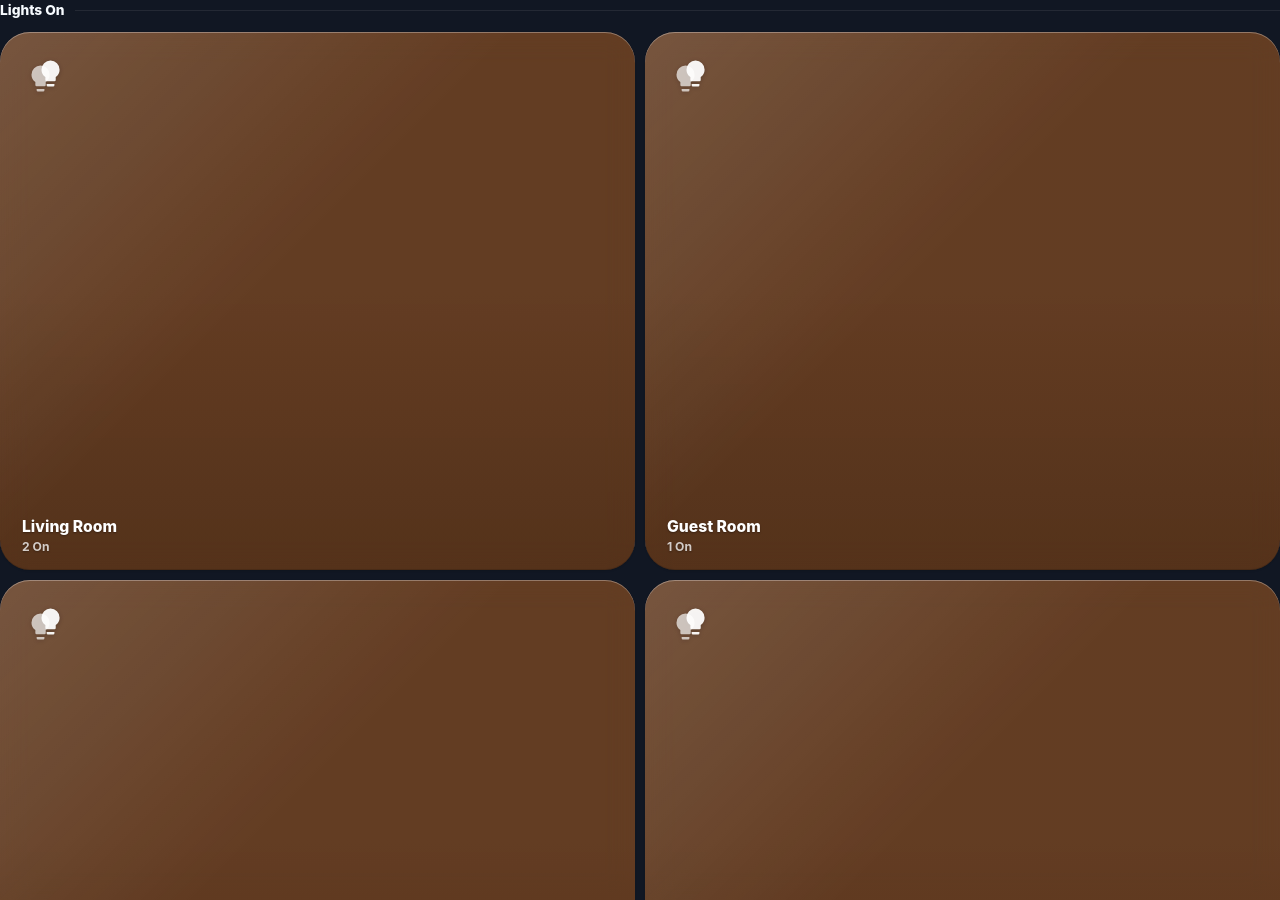
Scenario: AtAGlancePage › keeps standalone light detail controls together when no modal host owns its title
Click the button with aria-label "Open Guest Room Lights" at (962, 301), box x1=645 y1=32 x2=1279 y2=570
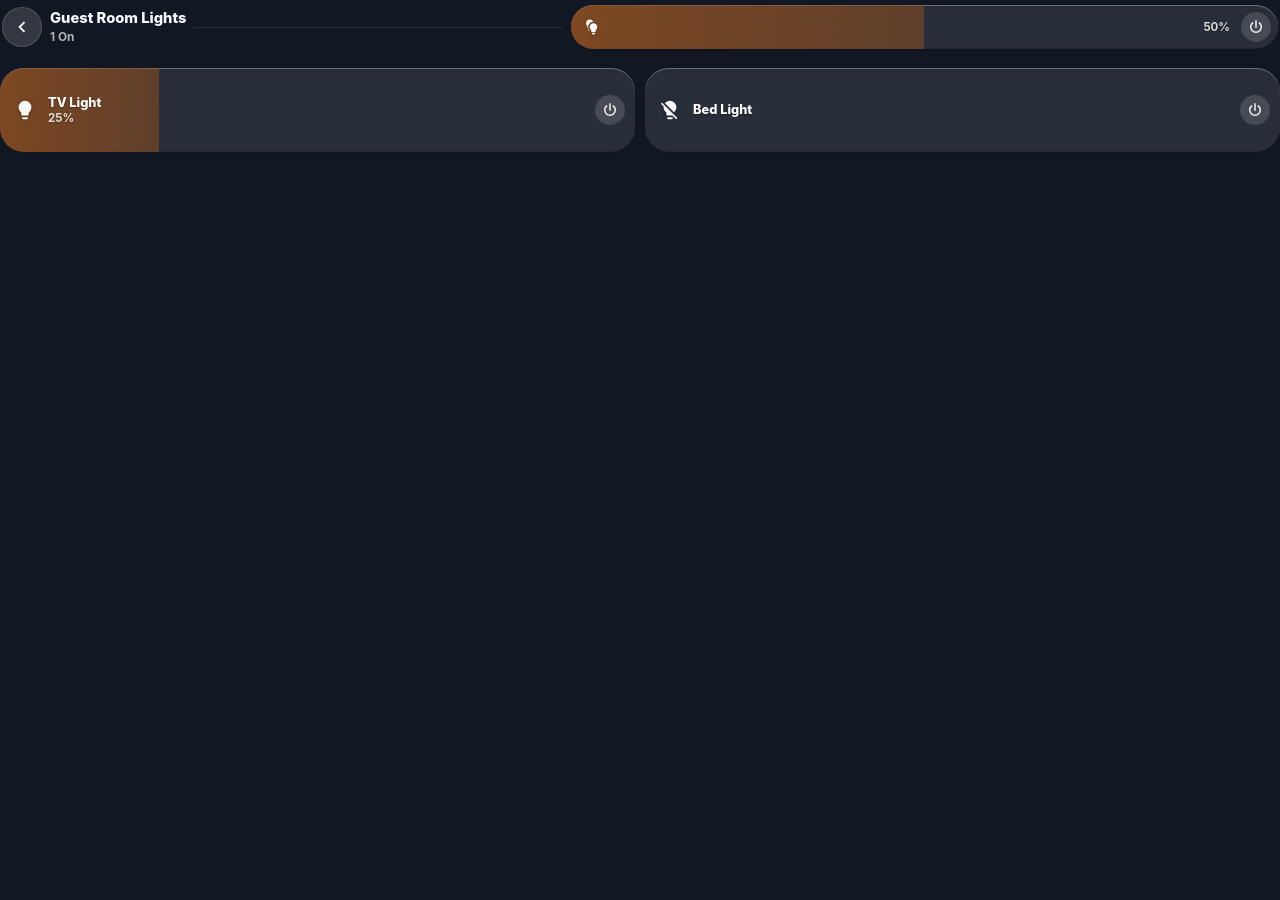
Expected: the text "1 On" is shown, x1=50 y1=30 x2=74 y2=44
Expected: the heading "Guest Room Lights" is shown, x1=50 y1=10 x2=186 y2=28
Expected: the button named "Back to room lights" is shown, x1=2 y1=7 x2=42 y2=47
